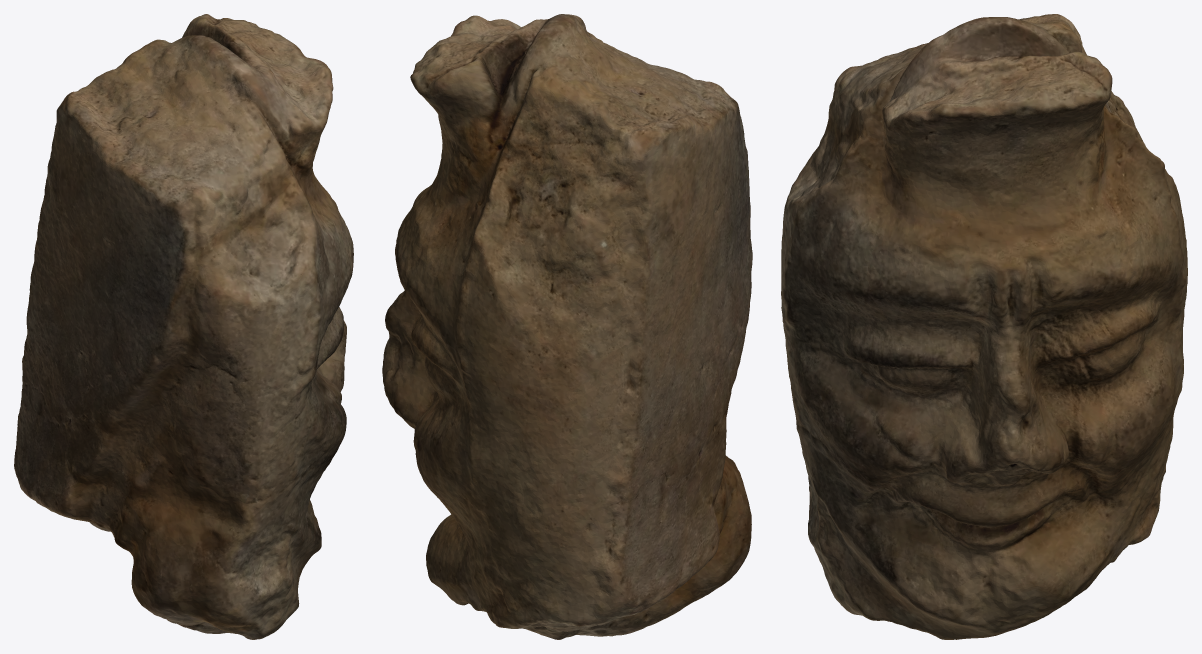
3 renders of one model, left to right at view 1: azimuth 30°, elevation 25°; view 2: azimuth 150°, elevation 25°; view 3: azimuth 270°, elevation 25°, orthographic. The views are drawn at different scales.
Visible parts, largest first — view 1: Mesh_0.022; view 2: Mesh_0.022; view 3: Mesh_0.022.
Part boxes in pixels (x1,y1,x2,y2): Mesh_0.022: (14,14,353,639); Mesh_0.022: (382,14,752,639); Mesh_0.022: (781,14,1187,639).
Bounding box in the file's own units: 0.1351 × 0.2464 × 0.149.
1 material, 1 textured.
